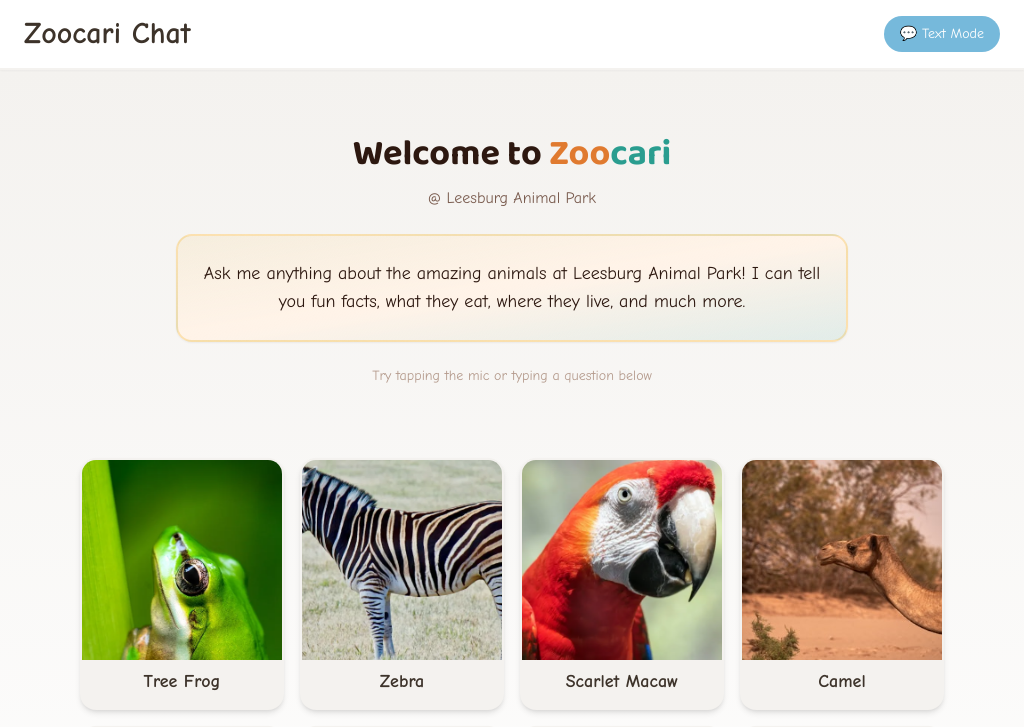
Test: ChatInterface - Integration Tests › sends message when animal button is clicked
Click the button "Zebra".
click(402, 584)  # box [300,458,504,710]
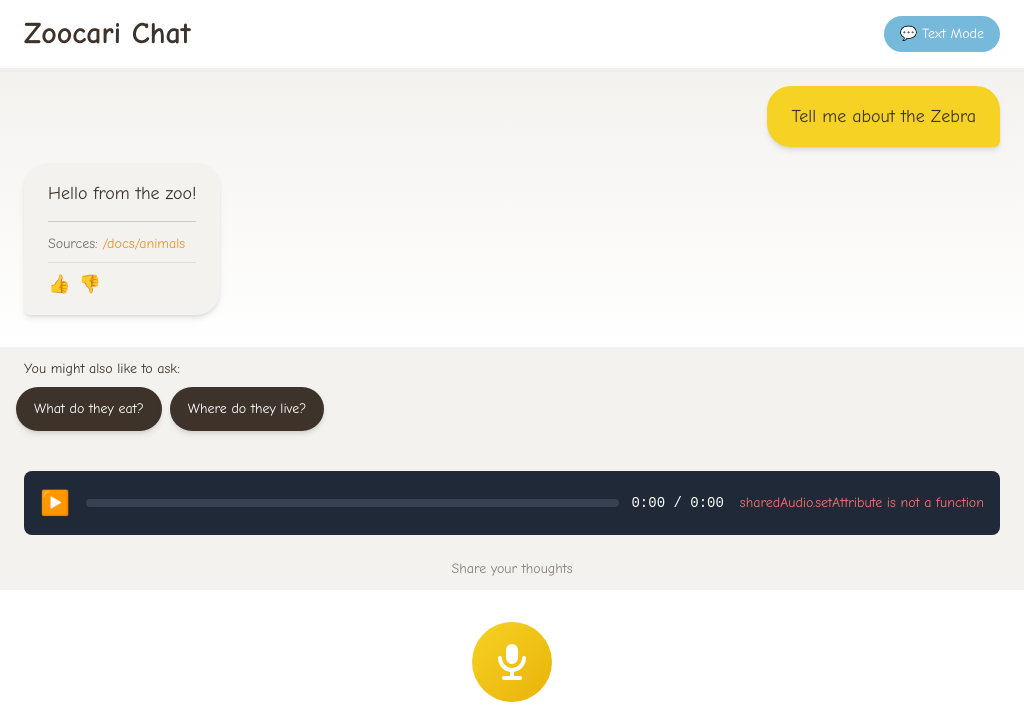
Expected: the text "Tell me about the Zebra" is shown, [791,102,976,131]
